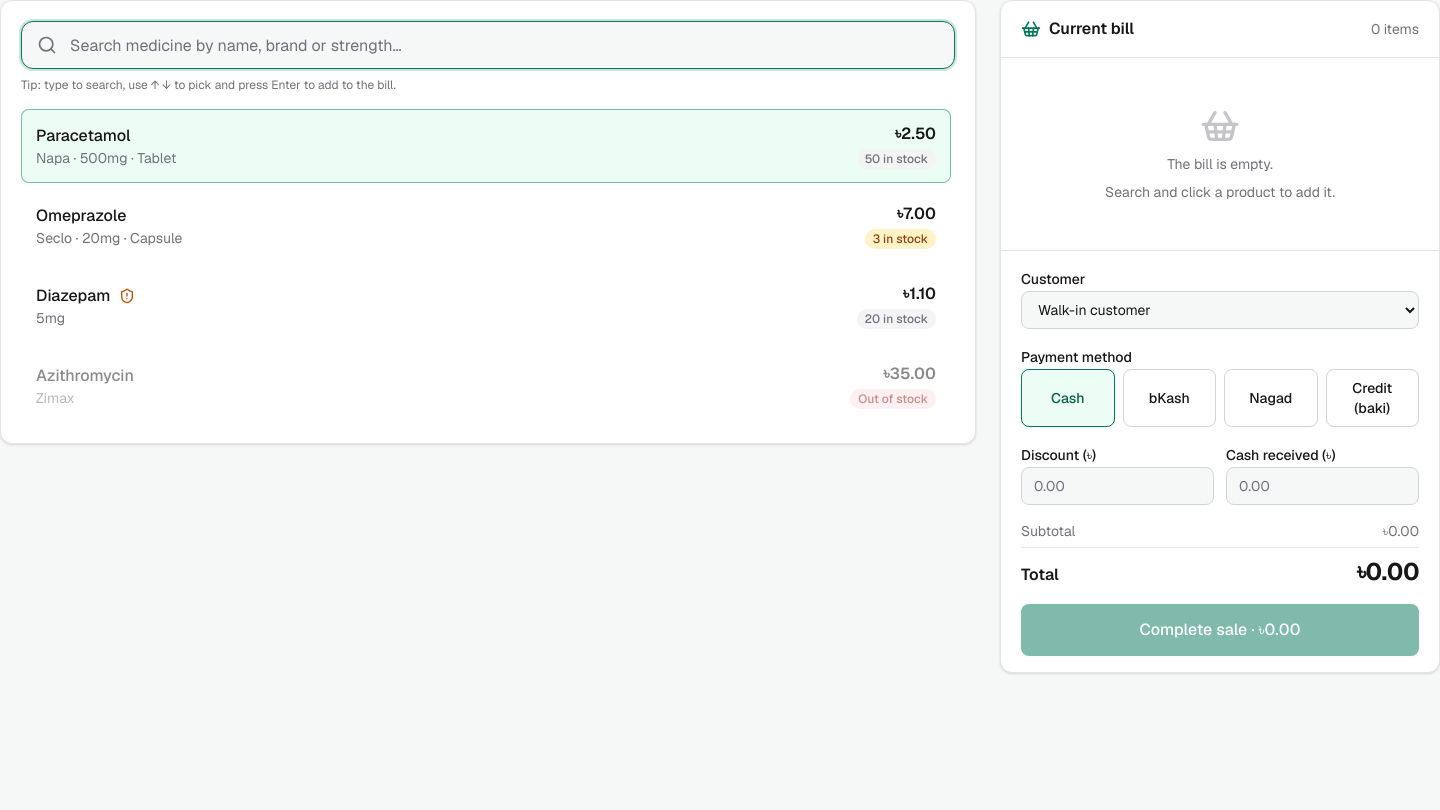
Test: PointOfSale › adds products and totals the bill
The image size is (1440, 810).
Click the button "Paracetamol Napa · 500mg · Tablet ৳2.50 50 in stock": x=83, y=136 21,109 -> 951,183
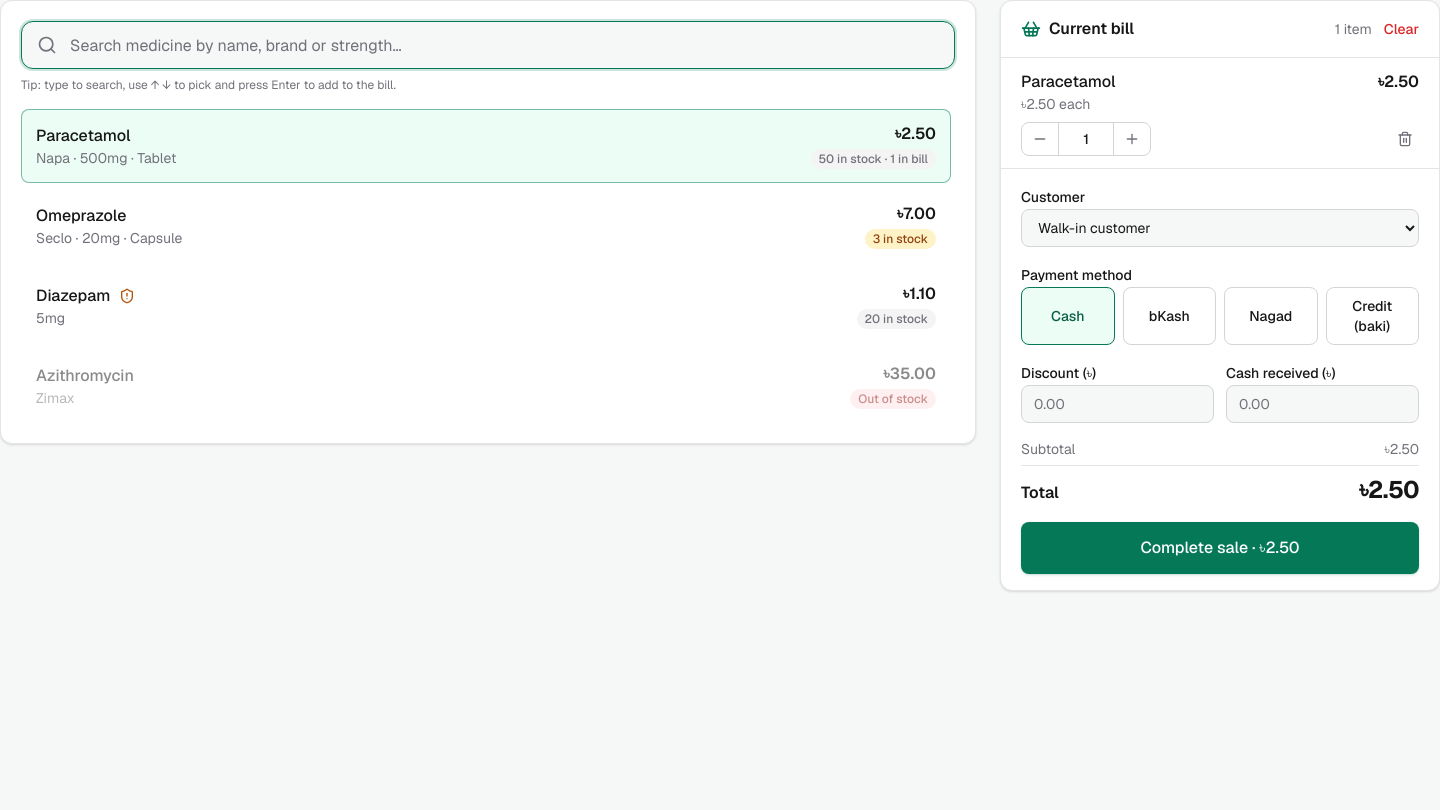
Click the button "Paracetamol": x=83, y=136 21,109 -> 951,183
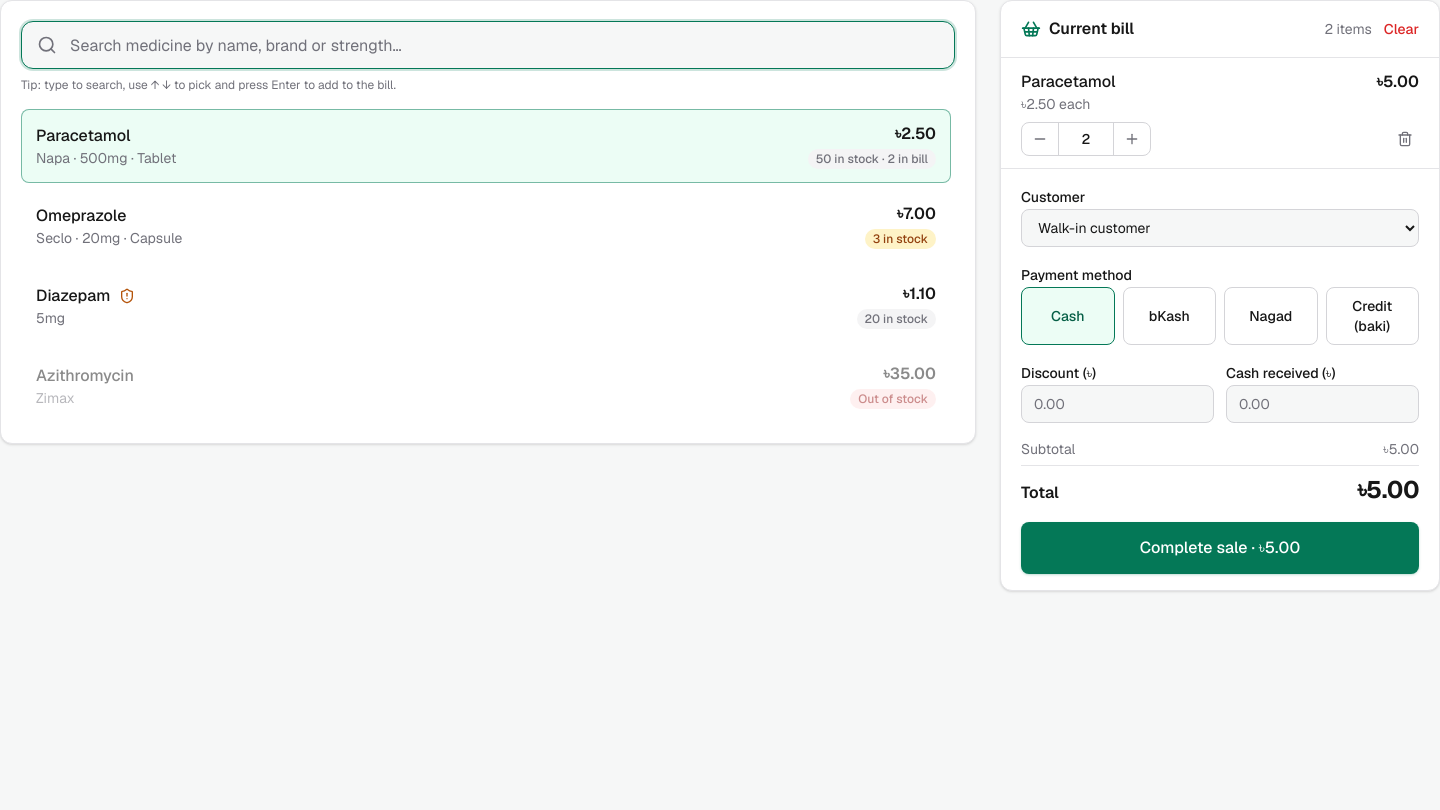
Click the button "Omeprazole Seclo · 20mg · Capsule ৳7.00 3 in stock": x=81, y=216 21,189 -> 951,263
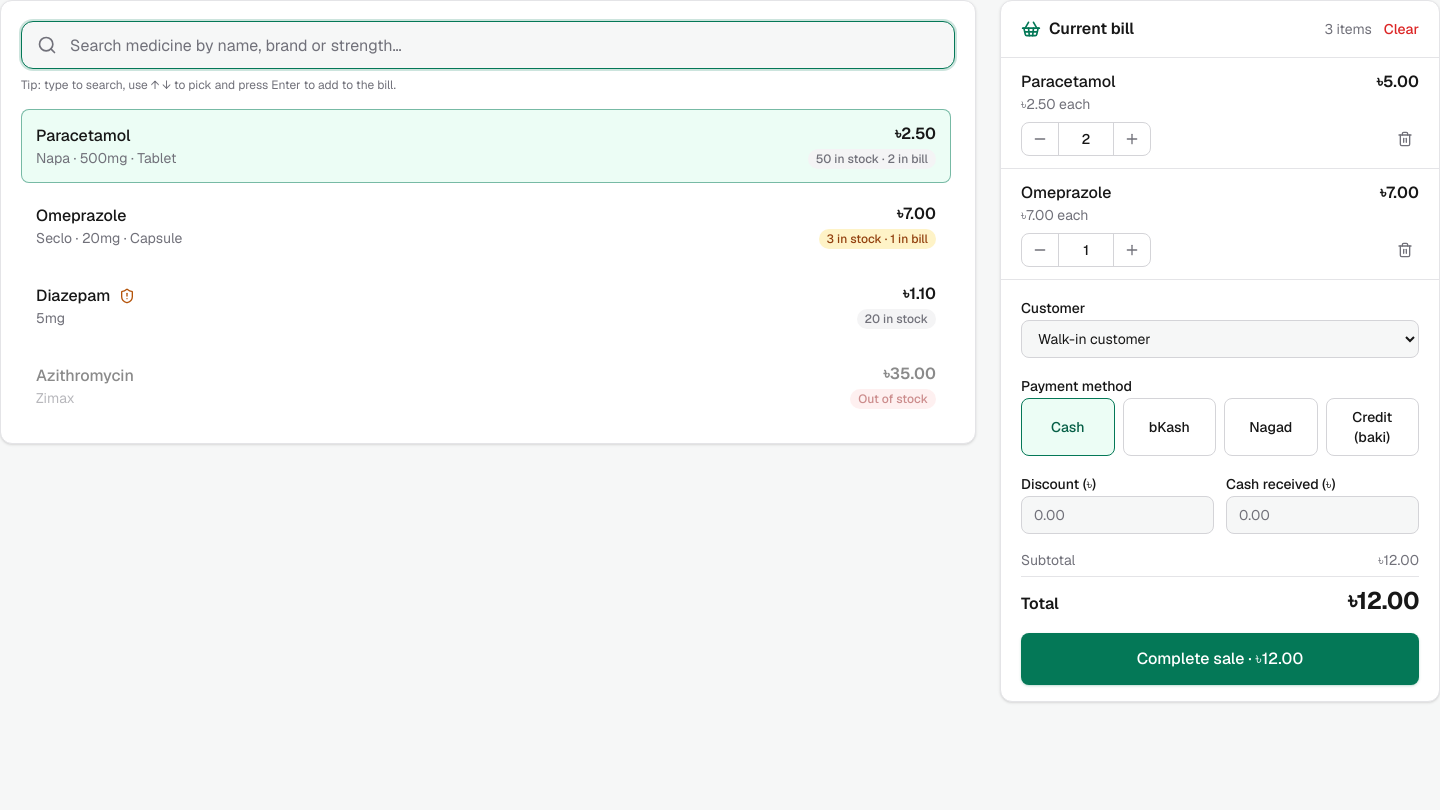
Expected: the button "Complete sale · ৳12.00" is enabled, 1021,633 -> 1419,685
Expected: the text "3 items" is shown, 1324,19 -> 1372,39
Expected: the button "Complete sale · ৳12.00" is shown, 1021,633 -> 1419,685
